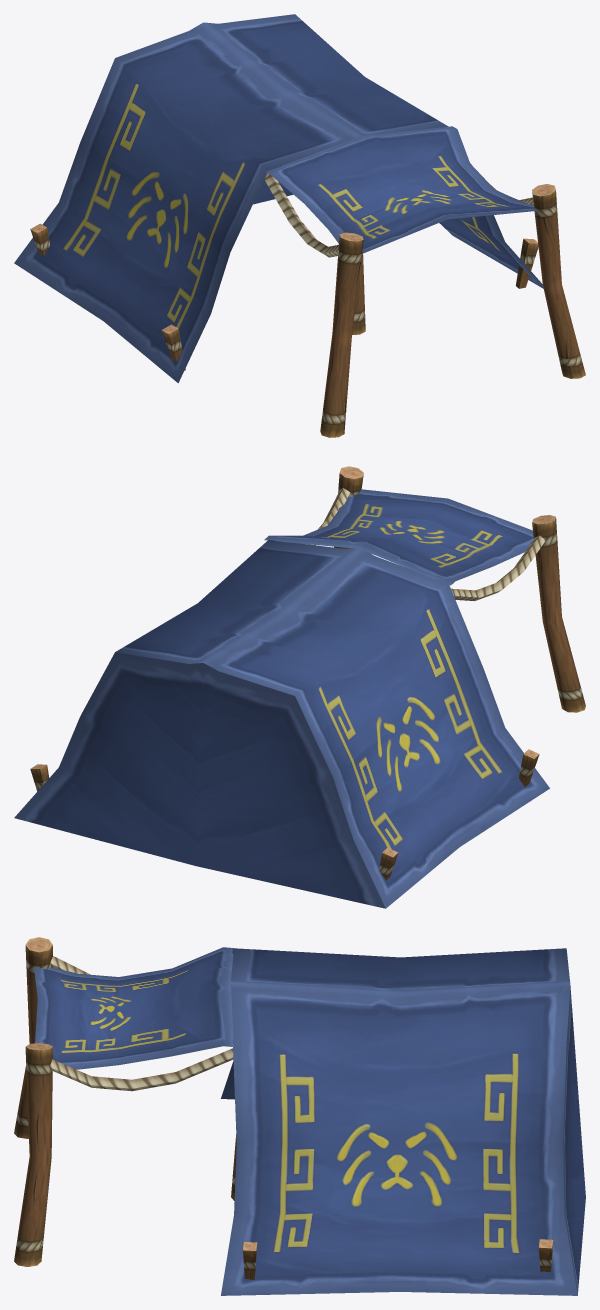
Rendered from FourthTent.fbx.
The picture shows the model from 3 angles, top to bottom: view 1: azimuth 30°, elevation 25°; view 2: azimuth 150°, elevation 25°; view 3: azimuth 270°, elevation 25°; orthographic projection. The views are drawn at different scales.
Parts seen in each view (by area): view 1: FourthTent; view 2: FourthTent; view 3: FourthTent.
Boxes of the visible parts, x1,y1,x2,y2 form: FourthTent: (14,14,585,437); FourthTent: (14,466,585,908); FourthTent: (14,937,585,1295).
Size of what is drawn, in the model's own units: 6.52 by 3.35 by 7.98.
